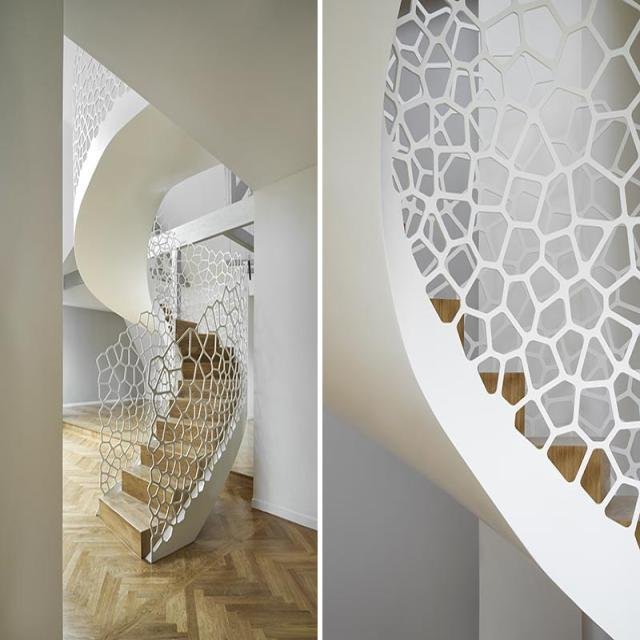stairs: (96, 320, 245, 562)
